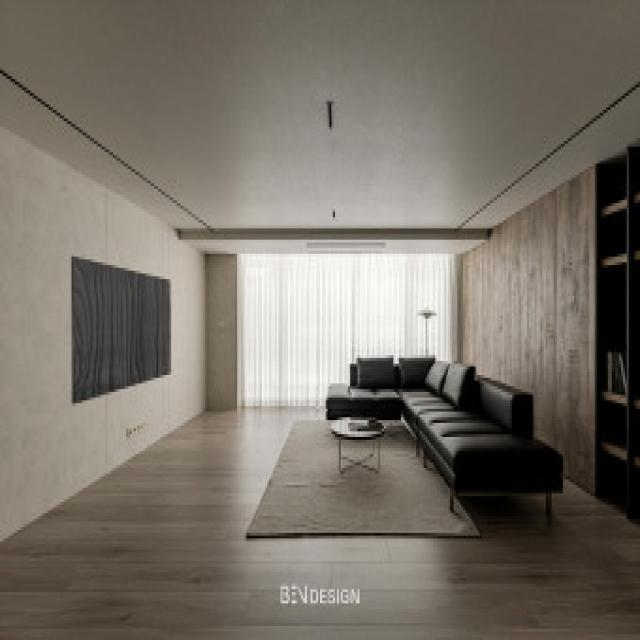Sofa: (397, 357, 565, 524)
Table: (332, 417, 387, 477)
tv: (71, 257, 173, 405)
